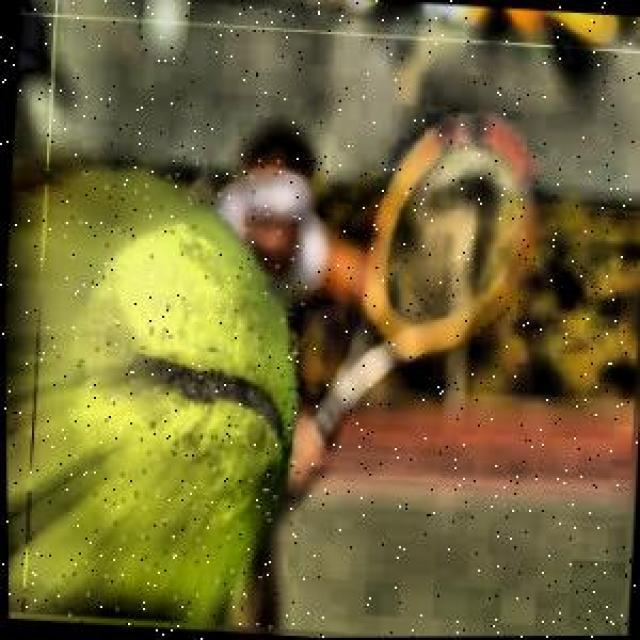tennis-ball: (35, 146, 323, 636)
